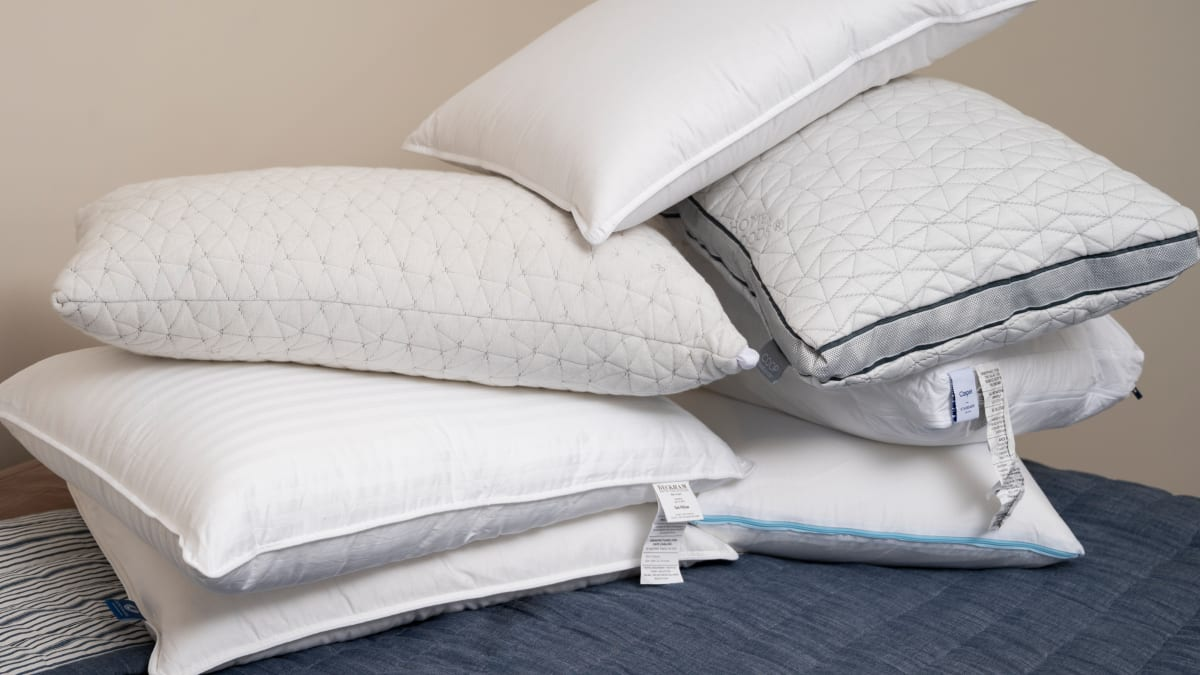bantal: (34, 157, 757, 426), (1, 352, 770, 562), (734, 101, 1195, 344), (738, 420, 1076, 579)
